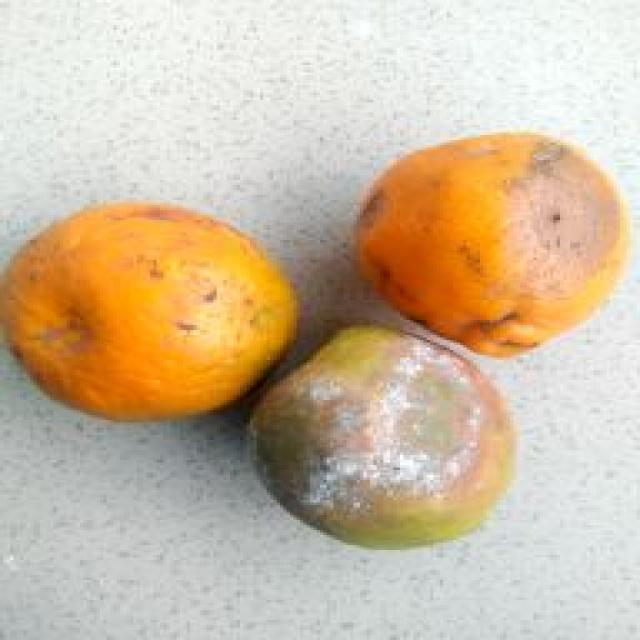Bad_Orange: (357, 132, 630, 356), (255, 326, 515, 547)
